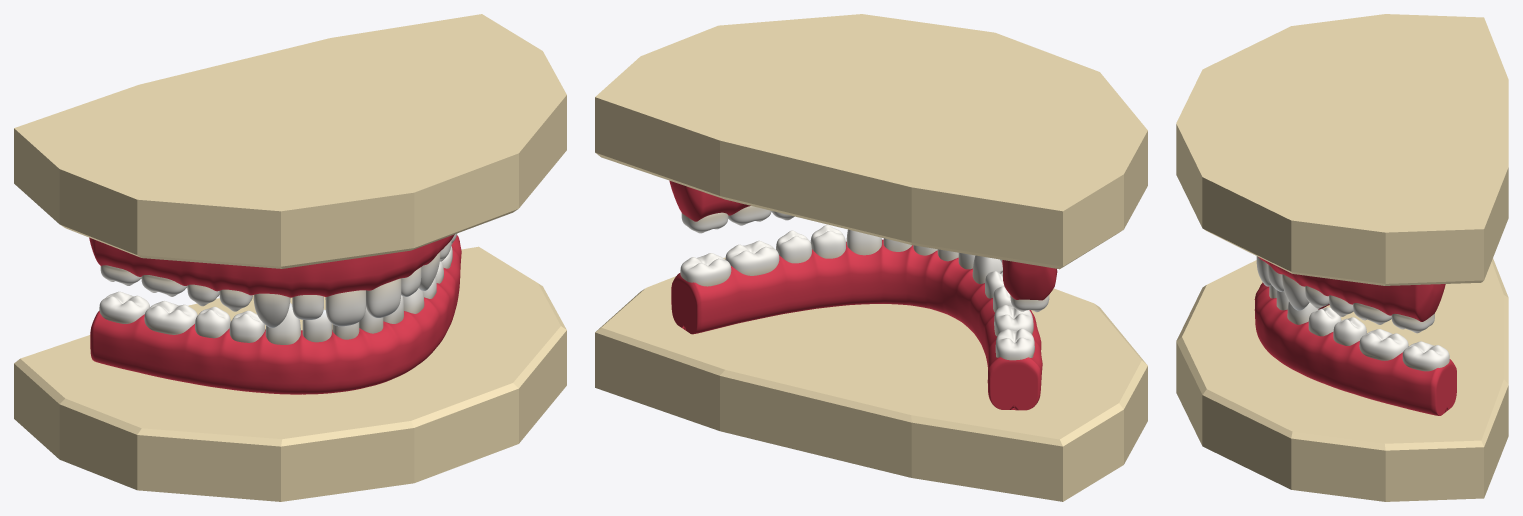
Rendered from protese-total-2.glb.
3 renders of one model, left to right at view 1: azimuth 30°, elevation 25°; view 2: azimuth 150°, elevation 25°; view 3: azimuth 270°, elevation 25°, orthographic. The views are drawn at different scales.
Parts seen in each view (by area): view 1: GessoSuperior, GessoInferior, InfGengiva, SupGengiva, InfDente_1, SupDente_6, InfDente_0, SupDente_7, SupDente_4, InfDente_3, InfDente_2, InfDente_4 (+3 smaller); view 2: GessoSuperior, GessoInferior, InfGengiva, SupGengiva, InfDente_12, InfDente_13, InfDente_0, InfDente_10, InfDente_11, InfDente_1, InfDente_9, SupDente_13; view 3: GessoSuperior, GessoInferior, InfGengiva, SupGengiva, InfDente_12, InfDente_13, InfDente_11, InfDente_10, SupDente_9, SupDente_13, SupDente_12, InfDente_9.
Boxes of the visible parts, <box> form: GessoSuperior: <box>14,14,566,268</box>; GessoInferior: <box>14,246,566,501</box>; InfGengiva: <box>90,235,461,394</box>; SupGengiva: <box>89,234,454,297</box>; InfDente_1: <box>144,301,197,334</box>; SupDente_6: <box>325,290,365,326</box>; InfDente_0: <box>99,291,149,323</box>; SupDente_7: <box>366,278,401,317</box>; SupDente_4: <box>253,293,290,327</box>; InfDente_3: <box>229,310,265,342</box>; InfDente_2: <box>195,306,230,338</box>; InfDente_4: <box>265,302,300,344</box>; GessoSuperior: <box>595,14,1147,269</box>; GessoInferior: <box>595,257,1147,501</box>; InfGengiva: <box>671,239,1042,410</box>; SupGengiva: <box>669,180,1057,300</box>; InfDente_12: <box>725,240,779,275</box>; InfDente_13: <box>680,253,731,286</box>; InfDente_0: <box>995,328,1034,360</box>; InfDente_10: <box>810,225,845,258</box>; InfDente_11: <box>776,230,811,263</box>; InfDente_1: <box>994,305,1033,336</box>; InfDente_9: <box>846,229,881,255</box>; SupDente_13: <box>681,212,728,233</box>; GessoSuperior: <box>1176,14,1508,285</box>; GessoInferior: <box>1176,258,1508,501</box>; InfGengiva: <box>1254,282,1456,415</box>; SupGengiva: <box>1258,257,1445,321</box>; InfDente_12: <box>1359,329,1408,360</box>; InfDente_13: <box>1402,341,1449,371</box>; InfDente_11: <box>1333,317,1366,345</box>; InfDente_10: <box>1308,307,1341,336</box>; SupDente_9: <box>1282,274,1309,310</box>; SupDente_13: <box>1391,313,1434,333</box>; SupDente_12: <box>1353,303,1391,324</box>; InfDente_9: <box>1287,302,1318,324</box>.
Bounding box in the file's own units: 0.0882 × 0.0507 × 0.0567.
